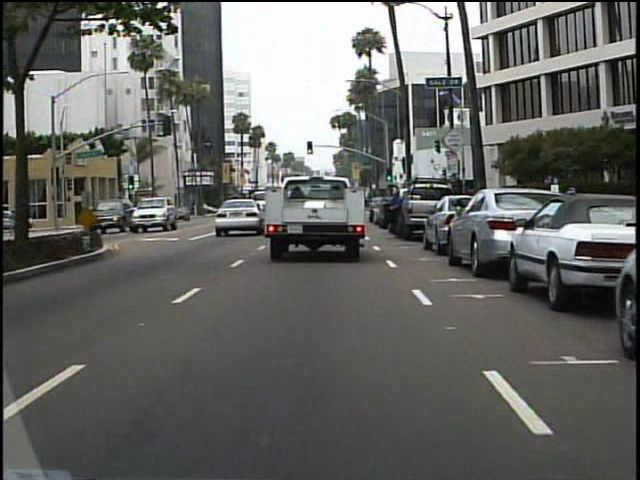person: (383, 184, 405, 236)
